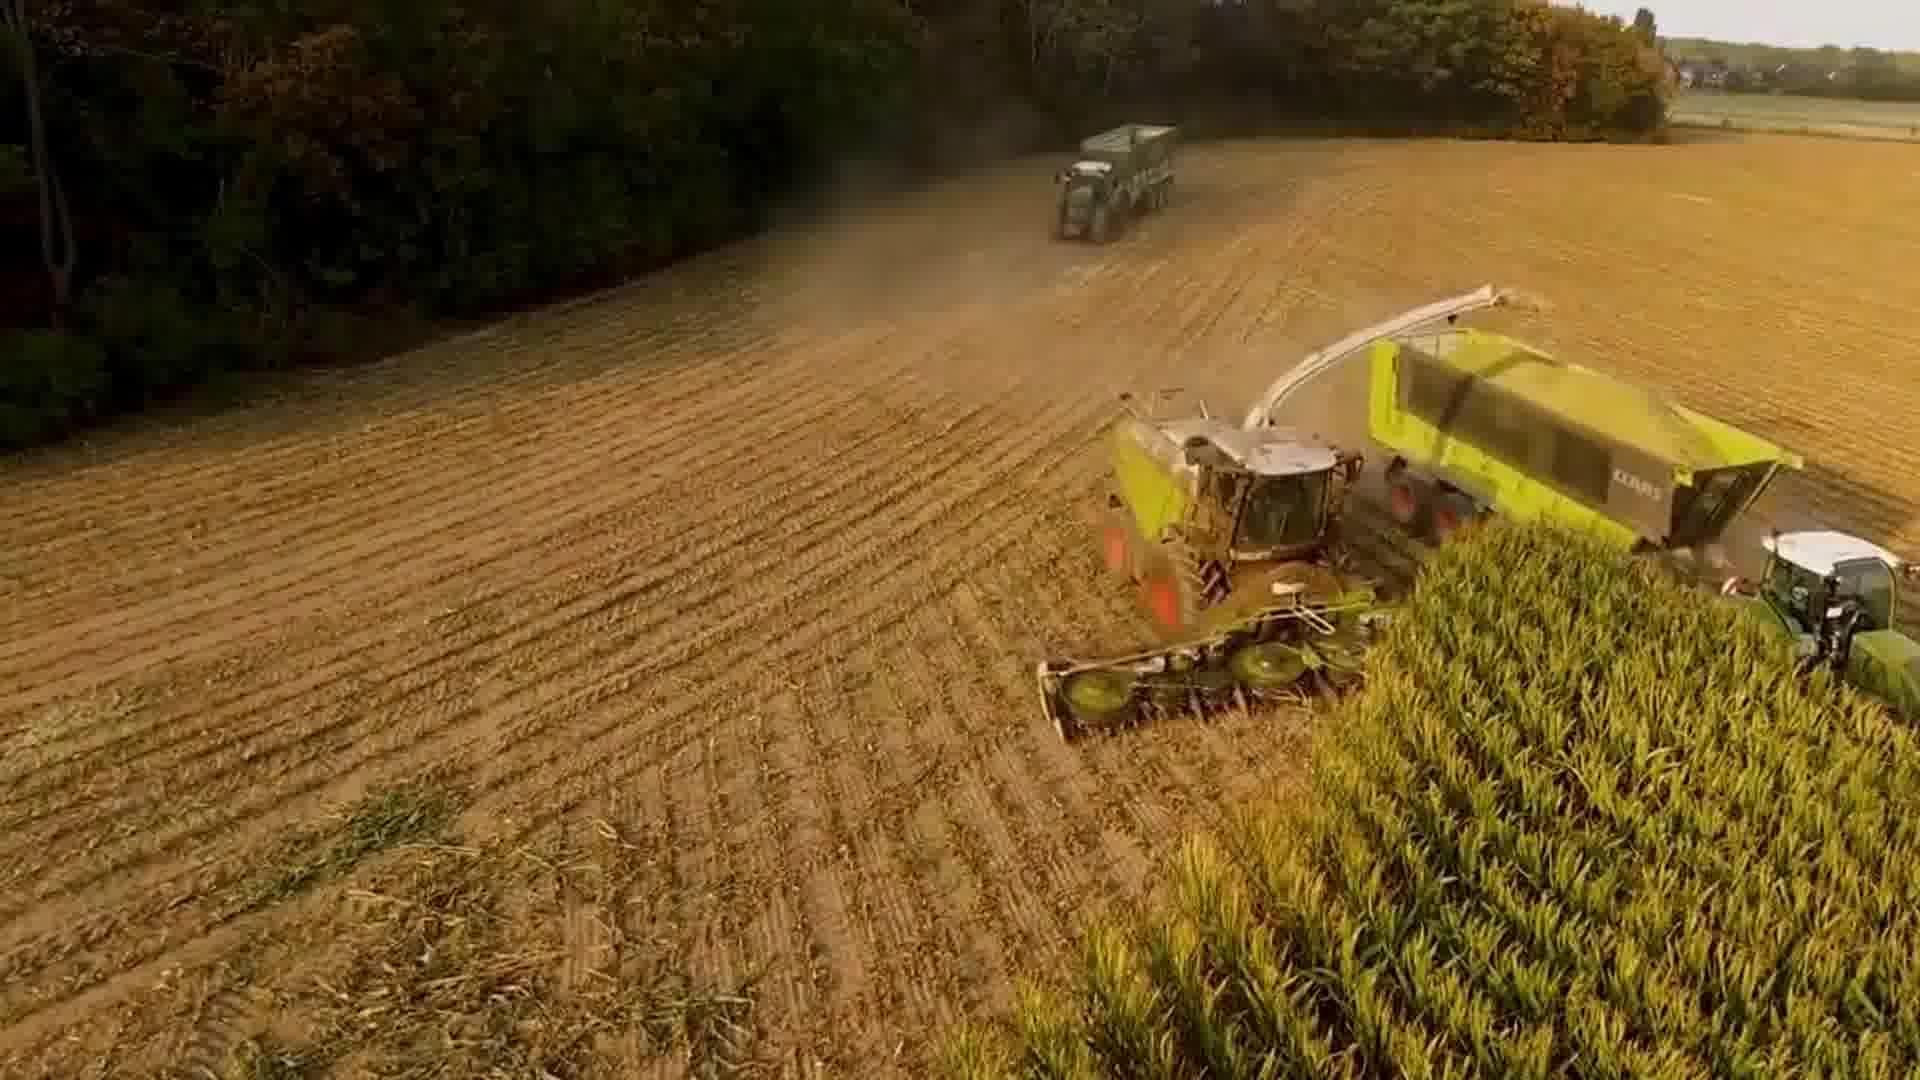combine harvester: (1022, 272, 1545, 750)
tractor: (1714, 517, 1920, 754), (1047, 158, 1135, 252)
trailer: (1365, 306, 1811, 625), (1075, 115, 1180, 219)
